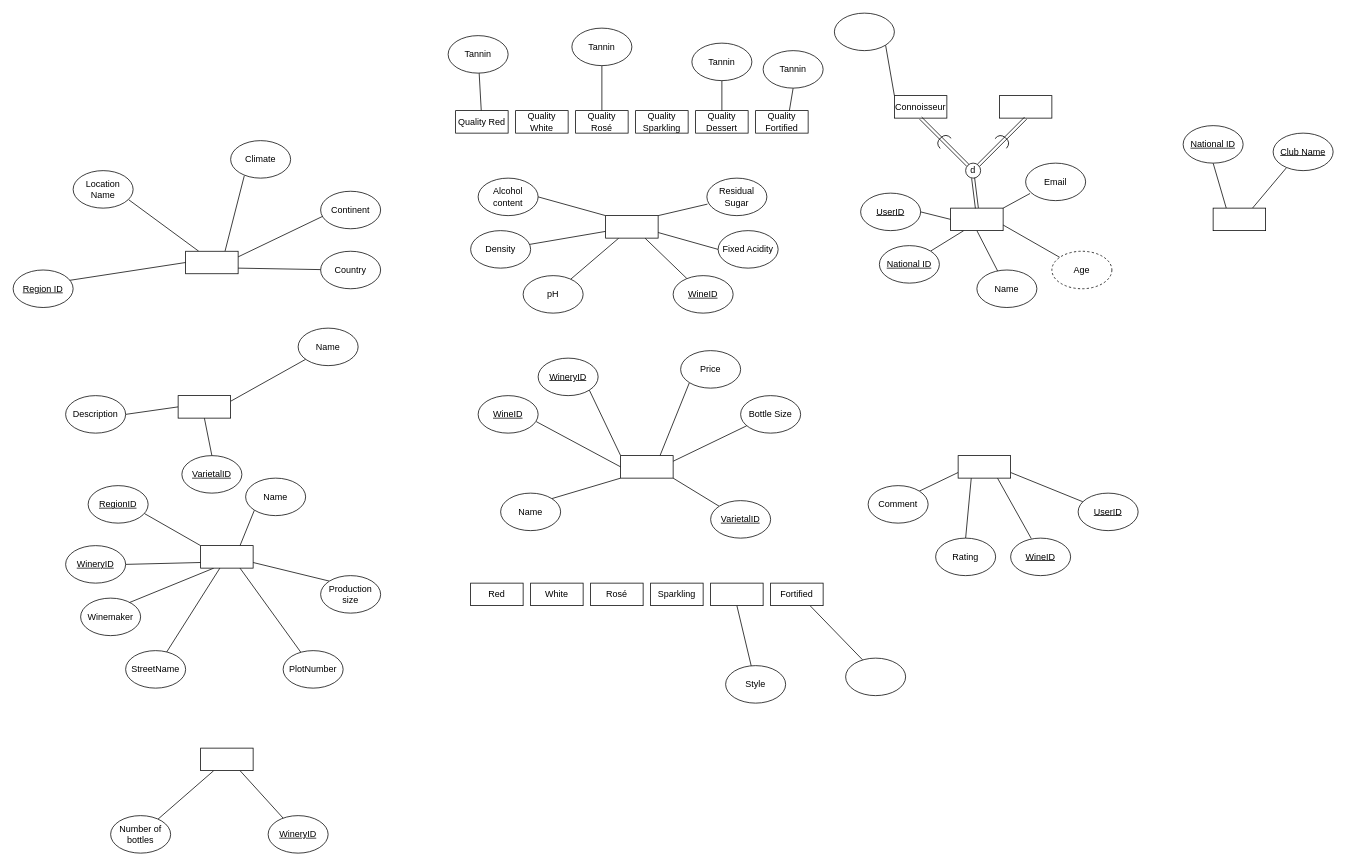
Image size: 1346x866. Some labels were removed from this diagram. The shapes that lost their labels are listed below. From the top down, each one's box as (x1, y1, x2, y2) in pixels, then its label:
(834, 12, 894, 51): CertificateID
(999, 95, 1052, 118): Novice
(605, 215, 658, 238): Quality
(950, 207, 1003, 231): Users
(1212, 207, 1266, 231): Wine Club Membership
(185, 250, 238, 274): Region
(177, 395, 231, 418): Grape Varietal
(620, 455, 673, 478): Wine
(957, 455, 1011, 478): Reviews
(200, 545, 253, 568): Winery
(710, 582, 763, 606): Dessert
(845, 657, 906, 696): Spirit
(200, 747, 253, 771): Inventory
